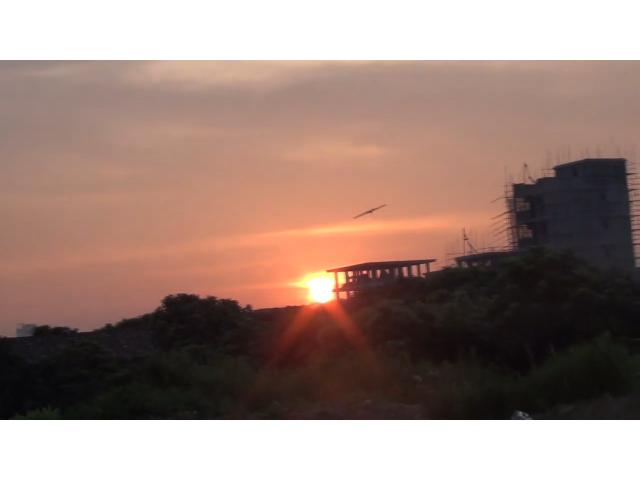Anti-Drone: (354, 204, 386, 218)
